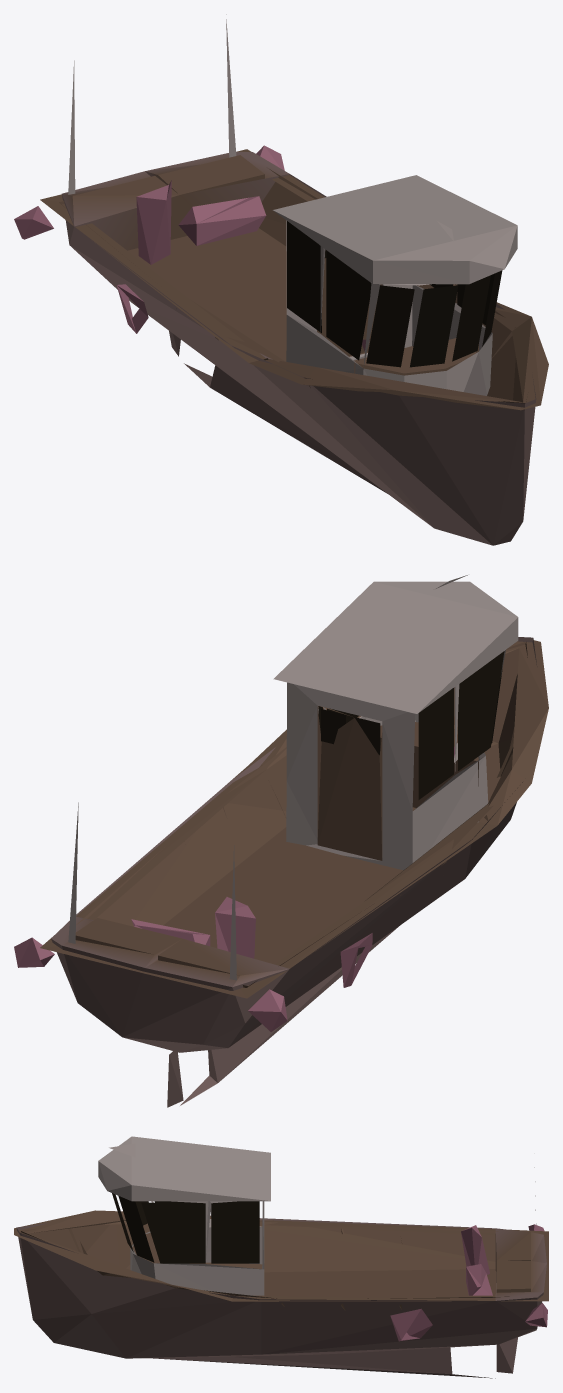
Rendered from cove-fisher-boat.lod2.glb.
The picture shows the model from 3 angles, top to bottom: view 1: azimuth 30°, elevation 25°; view 2: azimuth 150°, elevation 25°; view 3: azimuth 270°, elevation 25°; orthographic projection. The views are drawn at different scales.
Visible parts, largest first — view 1: Cube.022_MainColor_0; view 2: Cube.022_MainColor_0; view 3: Cube.022_MainColor_0.
Part boxes in pixels (x1,y1,x2,y2): Cube.022_MainColor_0: (14,14,548,545); Cube.022_MainColor_0: (14,575,548,1107); Cube.022_MainColor_0: (14,1136,548,1378).
Bounding box in the file's own units: 3.56 × 4.28 × 8.94.
